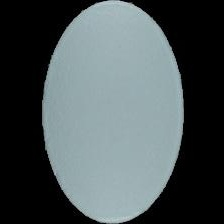0456-1140: (0, 0, 224, 224)
